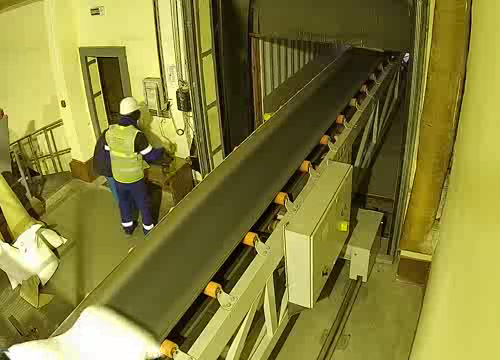bag: (4, 304, 171, 360), (354, 43, 386, 54)
